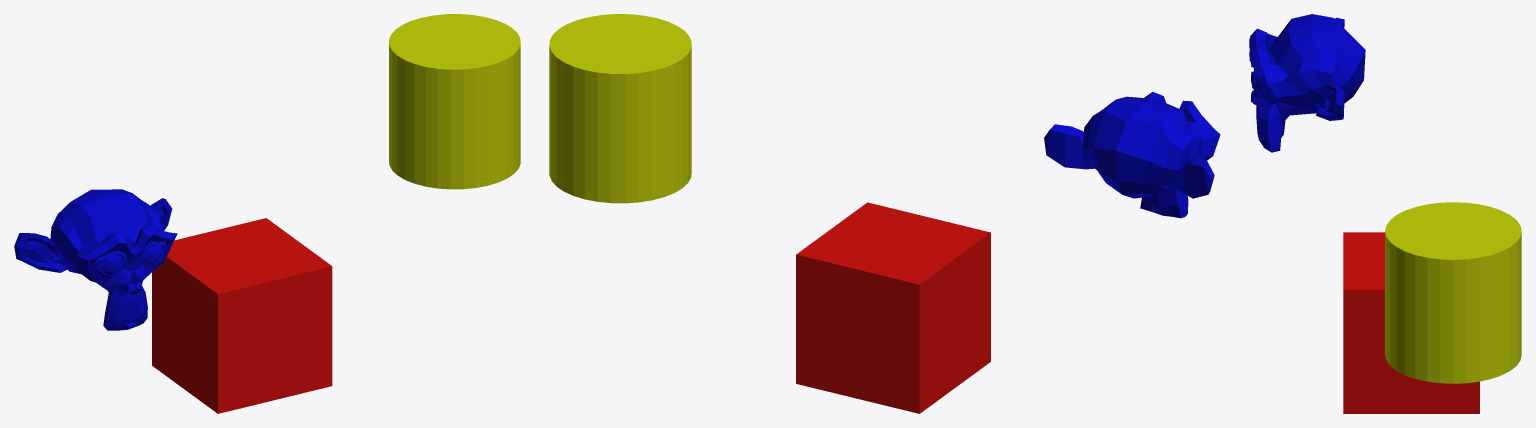
The model's file is agatadois.obj.
3 views of the same model, side by side, from view 1: azimuth 30°, elevation 25°; view 2: azimuth 150°, elevation 25°; view 3: azimuth 270°, elevation 25° (orthographic). The views are drawn at different scales.
Visible parts, largest first — view 1: cubozinho, Cylinder, Suzanne; view 2: cubozinho, Cylinder, Suzanne; view 3: Cylinder, cubozinho, Suzanne.
Part boxes in pixels (box(x1,y1,x2,y2)): cubozinho: box(152, 218, 332, 413); Cylinder: box(389, 14, 520, 189); Suzanne: box(14, 189, 177, 330); cubozinho: box(796, 202, 990, 413); Cylinder: box(549, 14, 691, 203); Suzanne: box(1044, 92, 1220, 218); Cylinder: box(1385, 202, 1521, 383); cubozinho: box(1343, 232, 1479, 413); Suzanne: box(1249, 14, 1365, 152).
Bounding box in the file's own units: 9.65 × 4.38 × 3.99.
